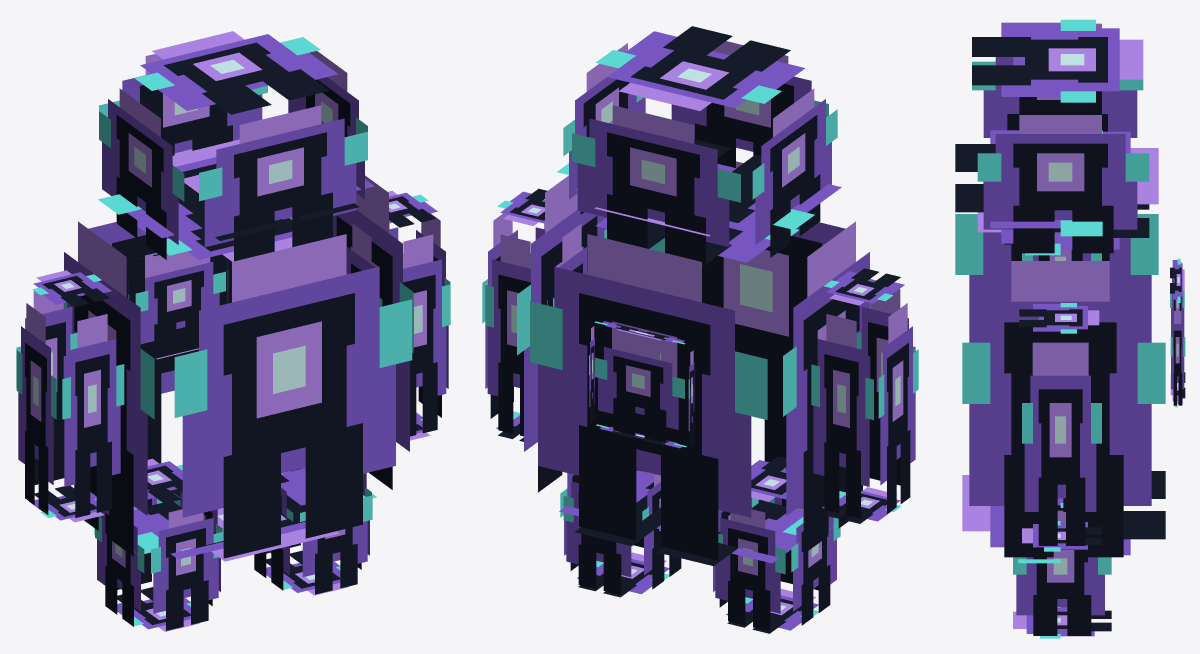
Rendered from boss.glb.
3 renders of one model, left to right at view 1: azimuth 30°, elevation 25°; view 2: azimuth 150°, elevation 25°; view 3: azimuth 270°, elevation 25°, orthographic.
Parts seen in each view (by area): view 1: body, head, arm-left, leg-left, arm-right, core, leg-right; view 2: body, head, arm-left, leg-left, arm-right, core, leg-right; view 3: body, head, arm-right, leg-right, core, arm-left.
Part boxes in pixels (left/top/right/bottom): body: left=63, top=139, right=413, bottom=561; head: left=99, top=31, right=367, bottom=261; arm-left: left=16, top=270, right=124, bottom=522; leg-left: left=94, top=458, right=223, bottom=631; arm-right: left=346, top=190, right=450, bottom=440; core: left=128, top=254, right=228, bottom=359; leg-right: left=254, top=467, right=372, bottom=595; body: left=517, top=139, right=870, bottom=566; head: left=563, top=26, right=837, bottom=266; arm-left: left=811, top=268, right=918, bottom=523; leg-left: left=713, top=456, right=840, bottom=633; arm-right: left=482, top=188, right=587, bottom=441; core: left=589, top=321, right=694, bottom=448; leg-right: left=560, top=469, right=681, bottom=597; body: left=955, top=130, right=1165, bottom=563; head: left=972, top=19, right=1149, bottom=255; arm-right: left=1019, top=303, right=1101, bottom=551; leg-right: left=1013, top=498, right=1111, bottom=638; core: left=1170, top=258, right=1185, bottom=407; arm-left: left=1022, top=249, right=1101, bottom=260.
Size of the model in its own units: 2.86 by 3.61 by 1.48.
Materials: 1 (1 with a texture image).
